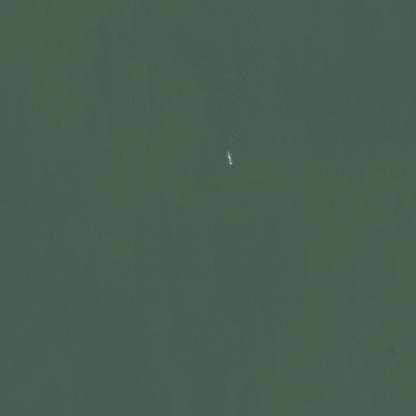ship: (208, 151, 216, 166)
